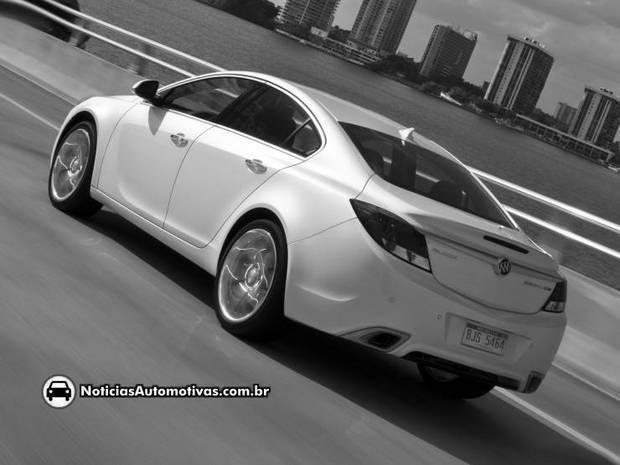car: (46, 68, 573, 404)
